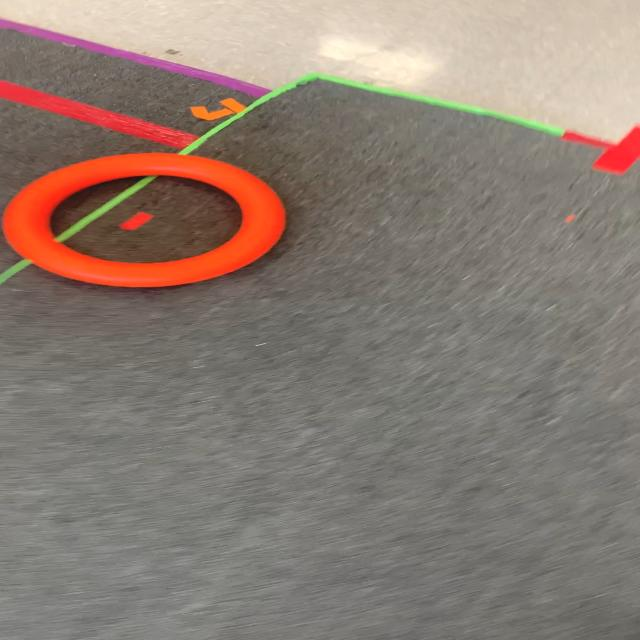notes: (0, 154, 286, 286)
